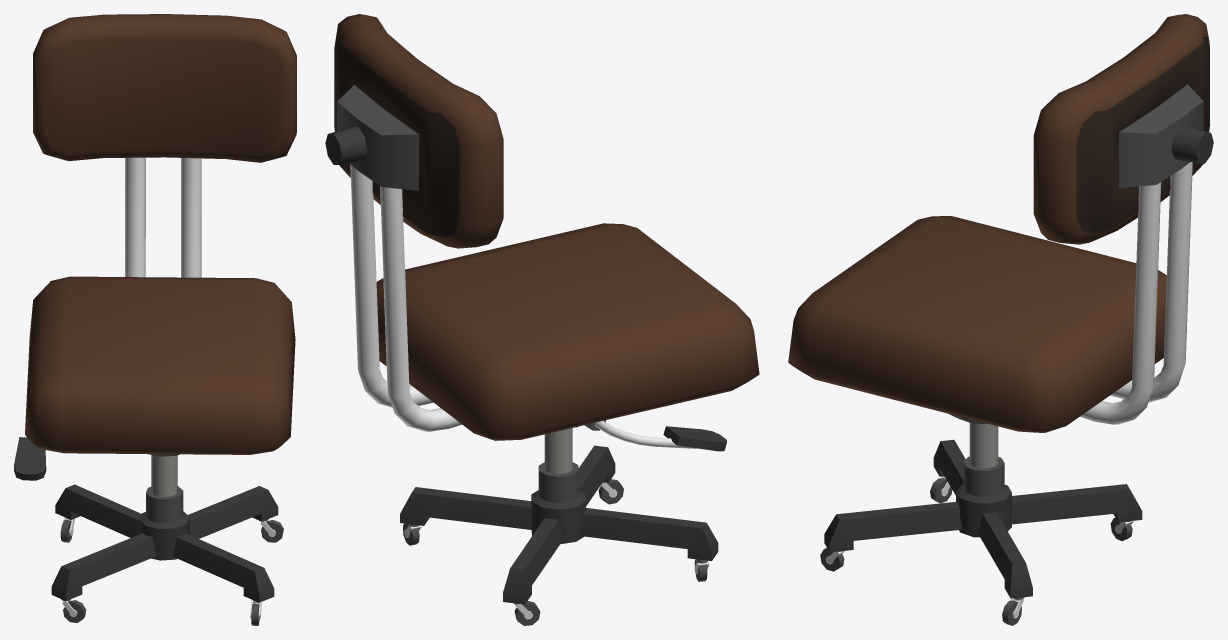
File: office-chair-60s--2.gltf
3 renders of one model, left to right at view 1: azimuth 30°, elevation 25°; view 2: azimuth 150°, elevation 25°; view 3: azimuth 270°, elevation 25°, orthographic. The views are drawn at different scales.
Visible parts, largest first — view 1: Cube.004; view 2: Cube.004; view 3: Cube.004.
Boxes of the visible parts, bbox=[...] form: Cube.004: bbox=[14, 14, 296, 625]; Cube.004: bbox=[325, 14, 759, 625]; Cube.004: bbox=[788, 14, 1213, 625].
Size of the model in its own units: 0.6896 by 1.01 by 0.7229.
